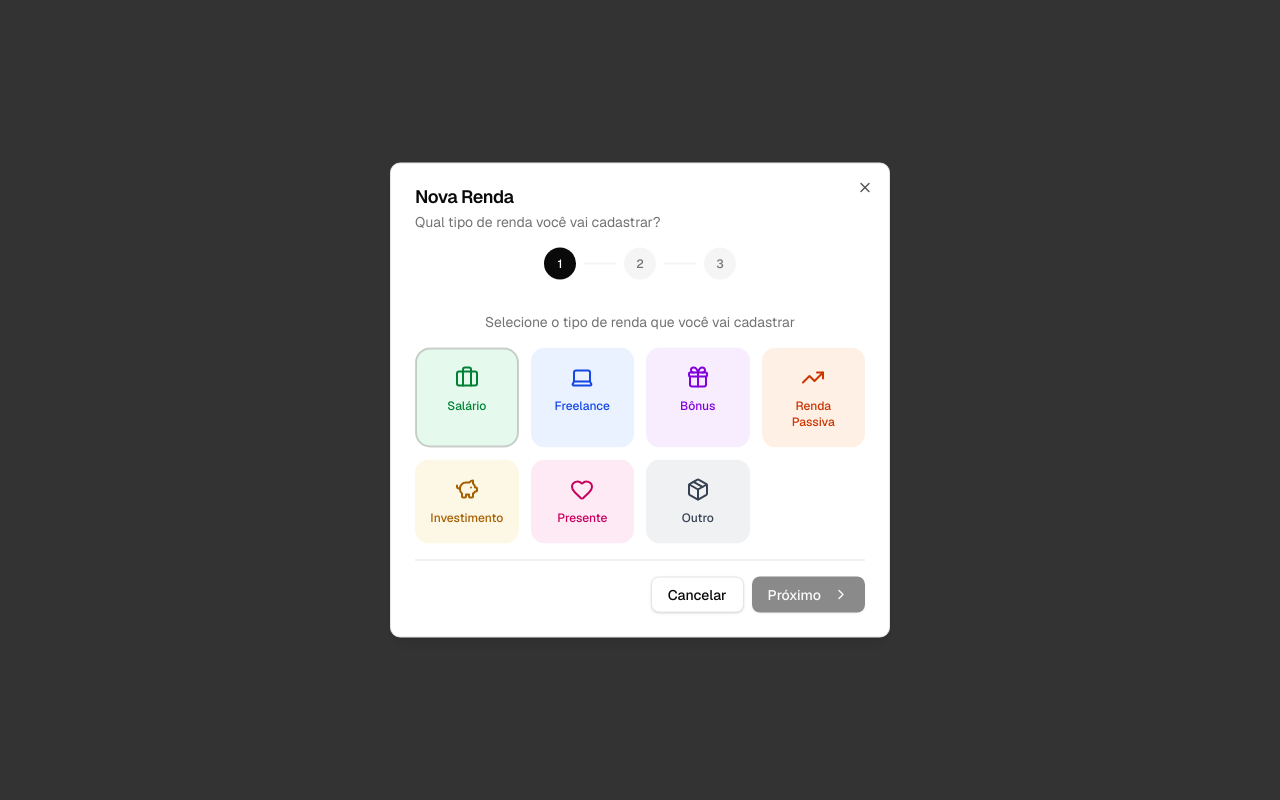
Test: CreateIncomeModal › should_advance_to_details_step_after_selecting_type
Note: Click on salary type
Click the button "Salário": [467, 398] box [415,348,518,448]
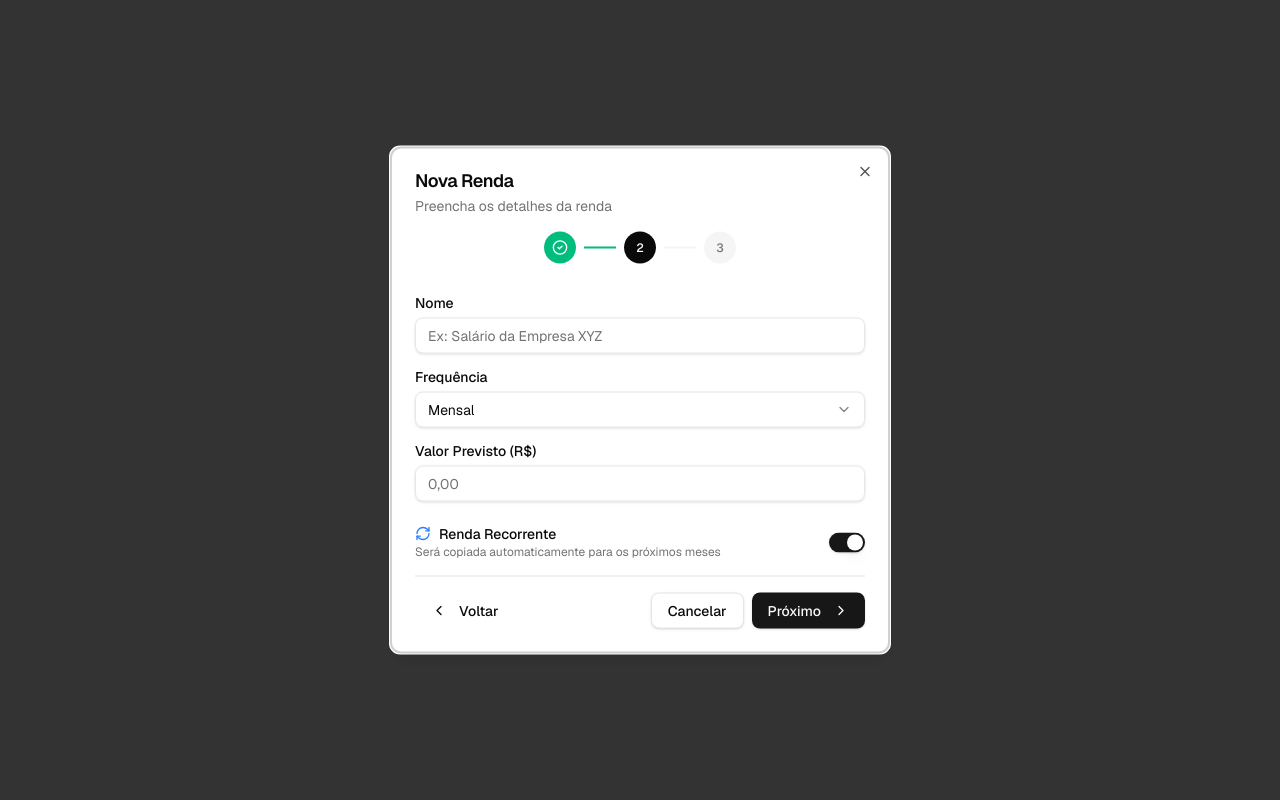
Expected: the text "Preencha os detalhes da renda" is shown, [415,196,612,214]
Expected: the field with test id "income-form-name" is shown, [415,318,865,354]
